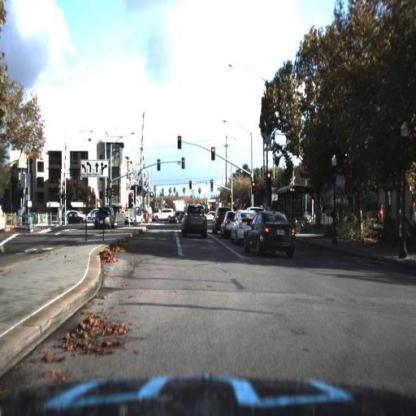car: (246, 210, 297, 260), (182, 204, 209, 242), (231, 212, 255, 248), (213, 201, 232, 241), (94, 206, 117, 231), (222, 210, 241, 240), (234, 212, 246, 248), (124, 206, 144, 226), (151, 204, 174, 221), (123, 210, 143, 228), (68, 212, 85, 228), (224, 212, 233, 238), (214, 209, 222, 235), (175, 208, 184, 226)
pedestrian: (378, 204, 385, 232), (411, 197, 416, 230)
trafficLight: (128, 191, 136, 212)
trafficLight-Red: (128, 188, 139, 209), (211, 142, 218, 159), (178, 134, 185, 149), (253, 176, 259, 193), (267, 169, 274, 183), (209, 175, 215, 191), (229, 193, 233, 205)
